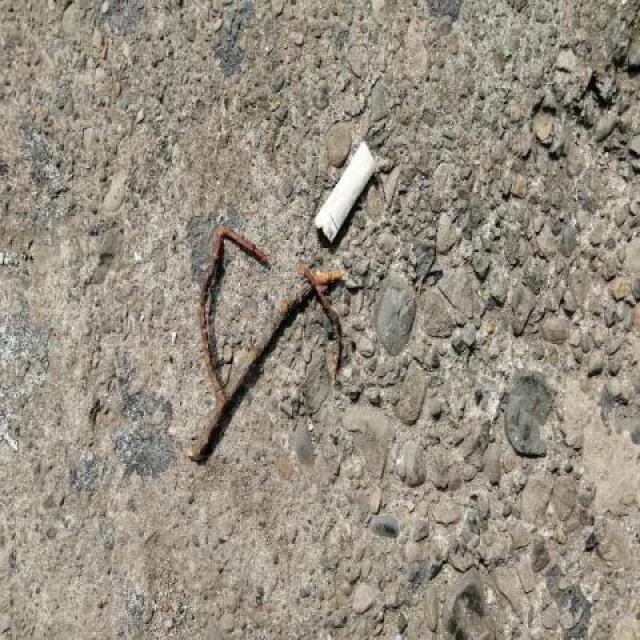non-organic waste: (310, 134, 381, 246)
